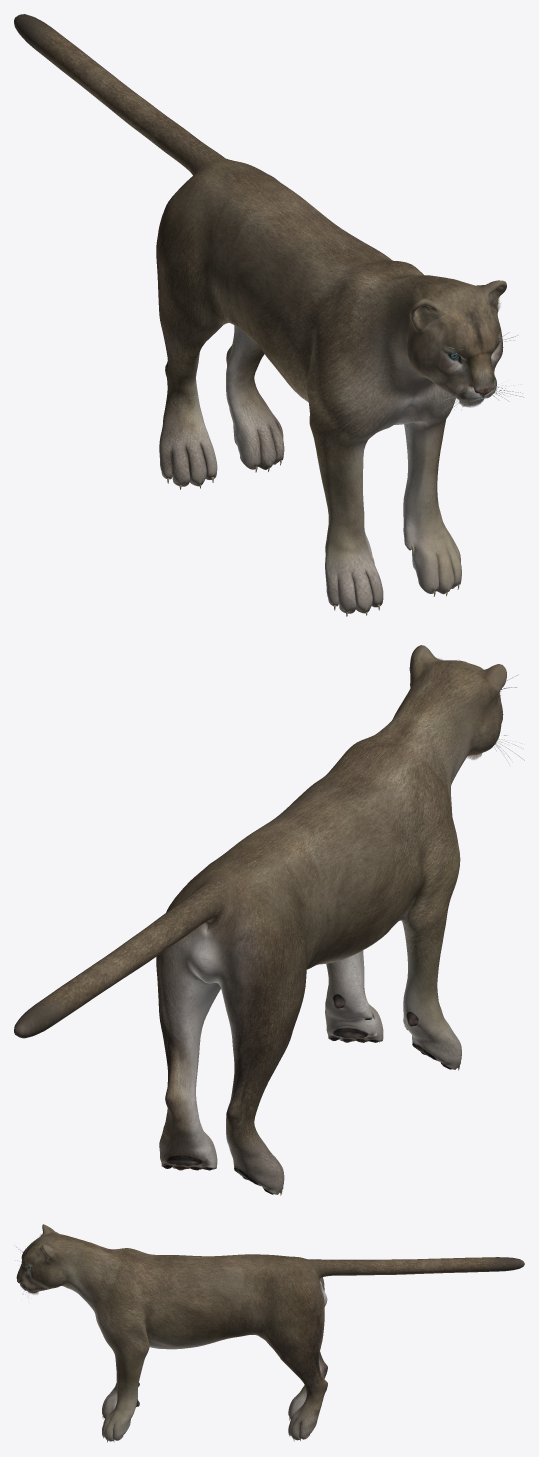
The picture shows the model from 3 angles, top to bottom: view 1: azimuth 30°, elevation 25°; view 2: azimuth 150°, elevation 25°; view 3: azimuth 270°, elevation 25°; orthographic projection. The views are drawn at different scales.
Visible parts, largest first — view 1: Puma_gray; view 2: Puma_gray; view 3: Puma_gray.
Boxes of the visible parts, left/top/right/bottom form: Puma_gray: left=14, top=14, right=523, bottom=616; Puma_gray: left=14, top=645, right=524, bottom=1195; Puma_gray: left=15, top=1224, right=524, bottom=1442.
Size of the model in its own units: 46.61 by 119 by 285.
16 materials, 15 textured.
